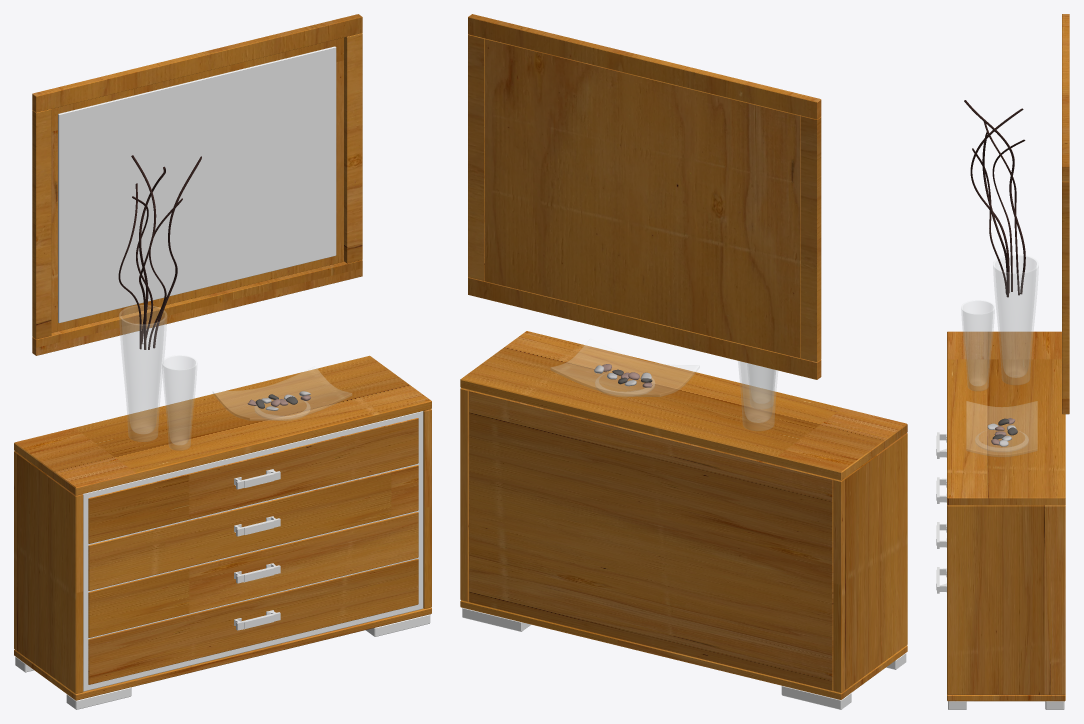
The model's file is dresser_mirror.glb.
3 views of the same model, side by side, from view 1: azimuth 30°, elevation 25°; view 2: azimuth 150°, elevation 25°; view 3: azimuth 270°, elevation 25° (orthographic). The views are drawn at different scales.
Visible parts, largest first — view 1: WoodFurniture_0004, Mirror_0001, WoodFurniture_0002, StainlessSmooth_0003, Vase_0001, Glass, Vase_0002, DecoPlant, Aluminium_0002; view 2: WoodFurniture_0004, WoodFurniture_0002, Glass, Vase_0001, StainlessSmooth_0003, Vase_0002; view 3: WoodFurniture_0004, Vase_0001, WoodFurniture_0002, Glass, DecoPlant, Vase_0002, Aluminium_0002, StainlessSmooth_0003.
Part boxes in pixels (x1=…): WoodFurniture_0004: x1=14, y1=355, x2=431, y2=700; Mirror_0001: x1=58, y1=46, x2=336, y2=323; WoodFurniture_0002: x1=32, y1=14, x2=362, y2=355; StainlessSmooth_0003: x1=15, y1=411, x2=430, y2=709; Vase_0001: x1=119, y1=305, x2=166, y2=441; Glass: x1=213, y1=366, x2=351, y2=420; Vase_0002: x1=162, y1=355, x2=197, y2=450; DecoPlant: x1=118, y1=155, x2=201, y2=349; Aluminium_0002: x1=234, y1=469, x2=280, y2=630; WoodFurniture_0004: x1=460, y1=331, x2=907, y2=699; WoodFurniture_0002: x1=468, y1=14, x2=821, y2=379; Glass: x1=550, y1=339, x2=699, y2=396; Vase_0001: x1=738, y1=361, x2=777, y2=430; StainlessSmooth_0003: x1=462, y1=608, x2=906, y2=709; Vase_0002: x1=748, y1=364, x2=774, y2=403; WoodFurniture_0004: x1=947, y1=331, x2=1065, y2=701; Vase_0001: x1=993, y1=254, x2=1038, y2=384; WoodFurniture_0002: x1=1062, y1=14, x2=1069, y2=414; Glass: x1=966, y1=401, x2=1037, y2=456; DecoPlant: x1=964, y1=100, x2=1025, y2=297; Vase_0002: x1=961, y1=300, x2=994, y2=390; Aluminium_0002: x1=936, y1=432, x2=946, y2=593; StainlessSmooth_0003: x1=948, y1=701, x2=1064, y2=709.
Bounding box in the file's own units: 0.9936 × 1.51 × 0.3374.
3 materials, 3 textured.
